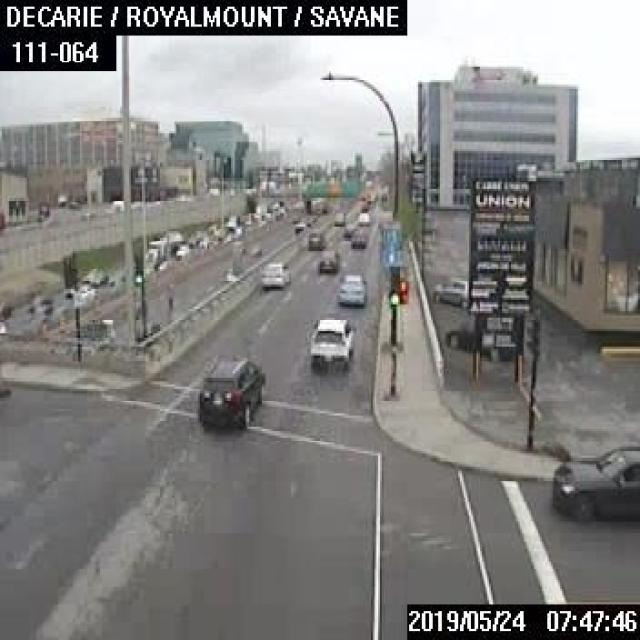vehicle: (550, 442, 638, 520), (194, 351, 266, 425), (444, 318, 514, 358), (306, 313, 354, 369), (431, 276, 468, 308), (145, 229, 181, 260), (256, 258, 289, 289), (338, 272, 368, 302), (318, 250, 339, 273), (308, 228, 325, 248), (349, 231, 367, 247), (340, 224, 356, 235), (332, 210, 344, 224), (356, 211, 369, 223)
